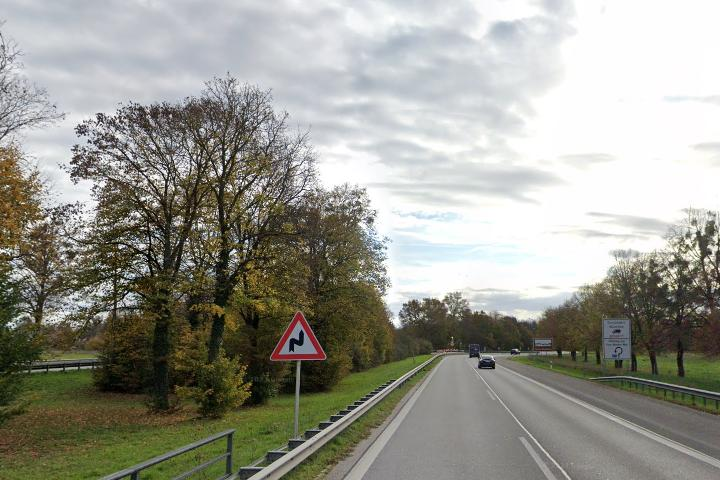traffic_sign: (267, 310, 328, 360)
vehicle: (477, 353, 497, 371)
